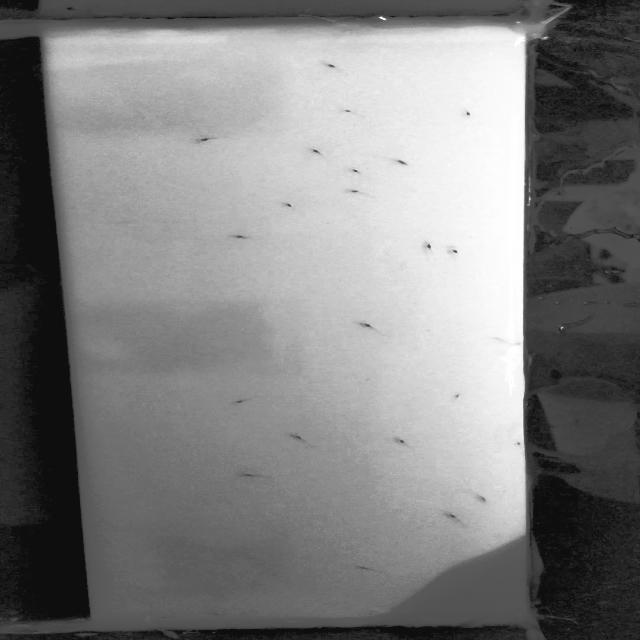shrimp: (445, 241, 468, 265), (384, 152, 418, 168), (351, 320, 387, 334), (224, 396, 260, 410), (304, 147, 337, 162), (392, 436, 418, 454), (443, 511, 472, 527), (151, 613, 189, 624), (468, 490, 491, 508), (286, 432, 317, 445), (353, 565, 383, 578), (342, 188, 377, 198), (418, 238, 436, 256), (240, 469, 269, 480), (193, 134, 224, 144), (318, 61, 346, 71), (349, 165, 371, 177), (230, 232, 259, 241), (338, 107, 364, 117), (458, 106, 471, 122), (213, 611, 230, 623), (450, 391, 469, 400), (280, 201, 293, 210)
